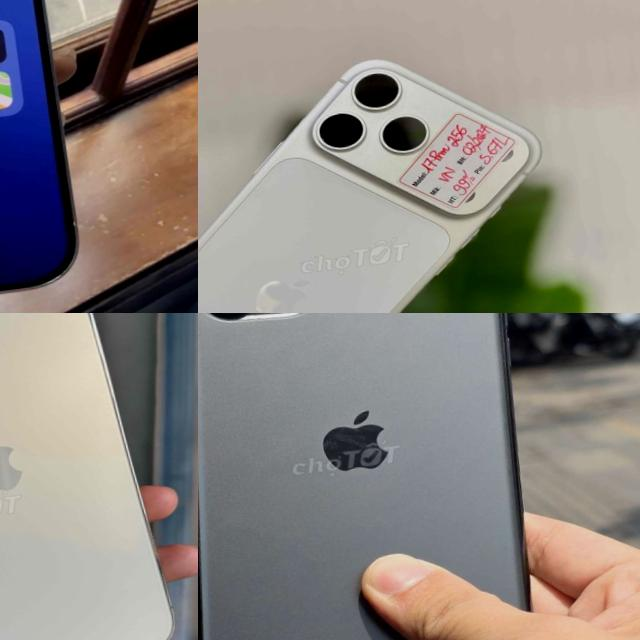gen_11: (198, 313, 559, 640)
gen_14: (0, 313, 191, 640)
gen_15: (0, 0, 102, 313)
gen_17: (198, 31, 582, 313)
